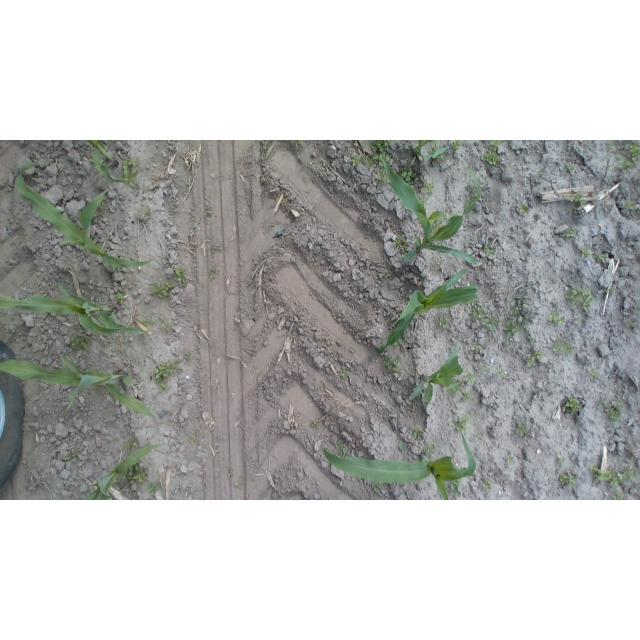Maize: (15, 162, 152, 271), (379, 153, 482, 268), (325, 432, 478, 500), (0, 356, 156, 420), (379, 269, 479, 355), (1, 284, 150, 337), (84, 444, 158, 500), (409, 346, 463, 403), (88, 140, 132, 184), (417, 141, 452, 160)
Weeds: (504, 282, 536, 349), (592, 464, 636, 488), (154, 360, 182, 392), (565, 286, 595, 313), (124, 461, 149, 484), (599, 399, 623, 422), (123, 157, 141, 187), (371, 140, 391, 166), (71, 331, 93, 352), (399, 163, 420, 185), (454, 374, 476, 394), (616, 154, 639, 173), (153, 282, 176, 299), (564, 395, 582, 415), (392, 236, 409, 257), (624, 141, 640, 162), (456, 413, 472, 433), (552, 339, 572, 355), (335, 442, 353, 459), (560, 472, 577, 489), (384, 356, 401, 373), (526, 351, 544, 367), (548, 313, 567, 328), (571, 195, 586, 214), (480, 318, 500, 332), (516, 421, 532, 438), (483, 151, 501, 166), (448, 476, 462, 495), (124, 438, 140, 454), (173, 267, 188, 284), (376, 170, 389, 189), (138, 317, 157, 328), (145, 482, 159, 496), (472, 306, 487, 319), (459, 391, 473, 403), (484, 245, 496, 259), (425, 443, 436, 458), (489, 141, 504, 152), (361, 156, 373, 169), (439, 315, 450, 329), (429, 141, 439, 156), (612, 489, 625, 500), (424, 182, 435, 195), (98, 195, 107, 210), (340, 369, 352, 380), (517, 204, 529, 215), (581, 246, 592, 258), (292, 140, 305, 150), (129, 489, 140, 500), (567, 230, 578, 241), (116, 291, 128, 301), (92, 382, 104, 392), (589, 369, 599, 381), (395, 339, 406, 349), (433, 218, 443, 229), (350, 155, 360, 166), (453, 141, 463, 152), (608, 140, 617, 152), (411, 428, 423, 437), (471, 344, 484, 352), (483, 479, 493, 489), (162, 324, 173, 333), (505, 454, 514, 465), (497, 370, 508, 379), (379, 271, 390, 280), (437, 151, 448, 160), (626, 201, 635, 211), (372, 482, 382, 491), (378, 344, 388, 353), (208, 269, 216, 280), (598, 254, 607, 263), (192, 219, 200, 229), (184, 350, 192, 360), (465, 184, 475, 192), (189, 436, 198, 444), (420, 197, 428, 206), (414, 148, 422, 157), (311, 422, 321, 429), (399, 439, 406, 449), (467, 196, 474, 206), (482, 364, 490, 372), (262, 143, 270, 150), (204, 211, 212, 218), (568, 164, 575, 172), (475, 432, 482, 440), (145, 206, 152, 213), (539, 169, 546, 176), (605, 289, 613, 295), (628, 321, 636, 327), (64, 456, 73, 461), (369, 357, 376, 363), (632, 308, 640, 313), (557, 459, 563, 465), (236, 484, 243, 489), (75, 452, 81, 457), (229, 471, 234, 477), (424, 275, 429, 281), (576, 320, 581, 324), (147, 497, 153, 500)
